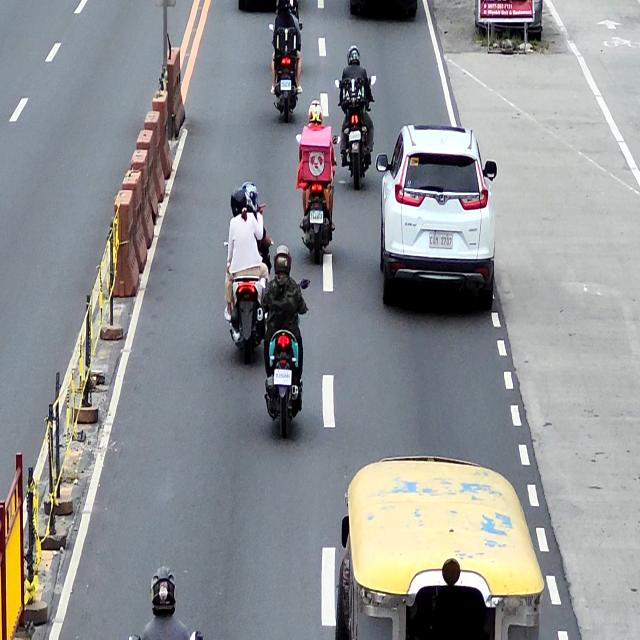Car: (376, 126, 497, 313)
Jeep: (335, 455, 544, 640)
License-Plate: (429, 233, 453, 250), (274, 369, 292, 386), (310, 210, 324, 224), (349, 130, 361, 141), (280, 79, 292, 90)
Motorcycle: (261, 275, 310, 441), (227, 236, 273, 366), (295, 132, 340, 262), (336, 76, 376, 188), (270, 20, 304, 124)
